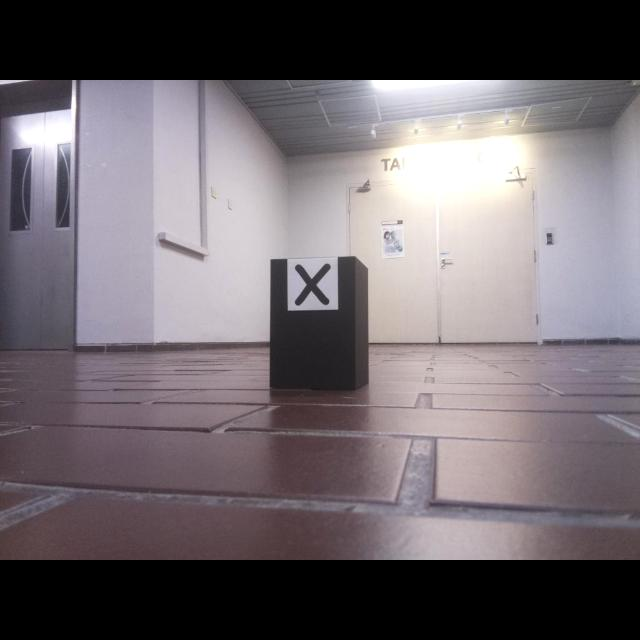X: (294, 263, 331, 306)
